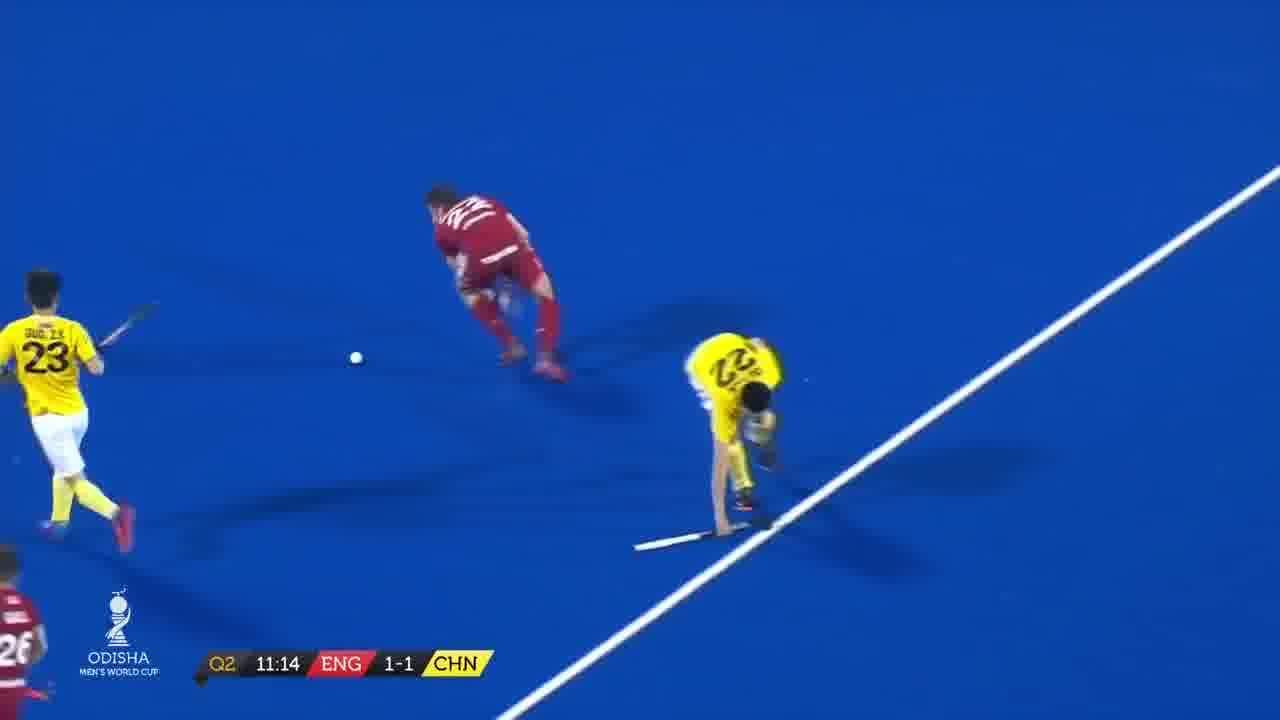ball: (348, 342, 370, 372)
